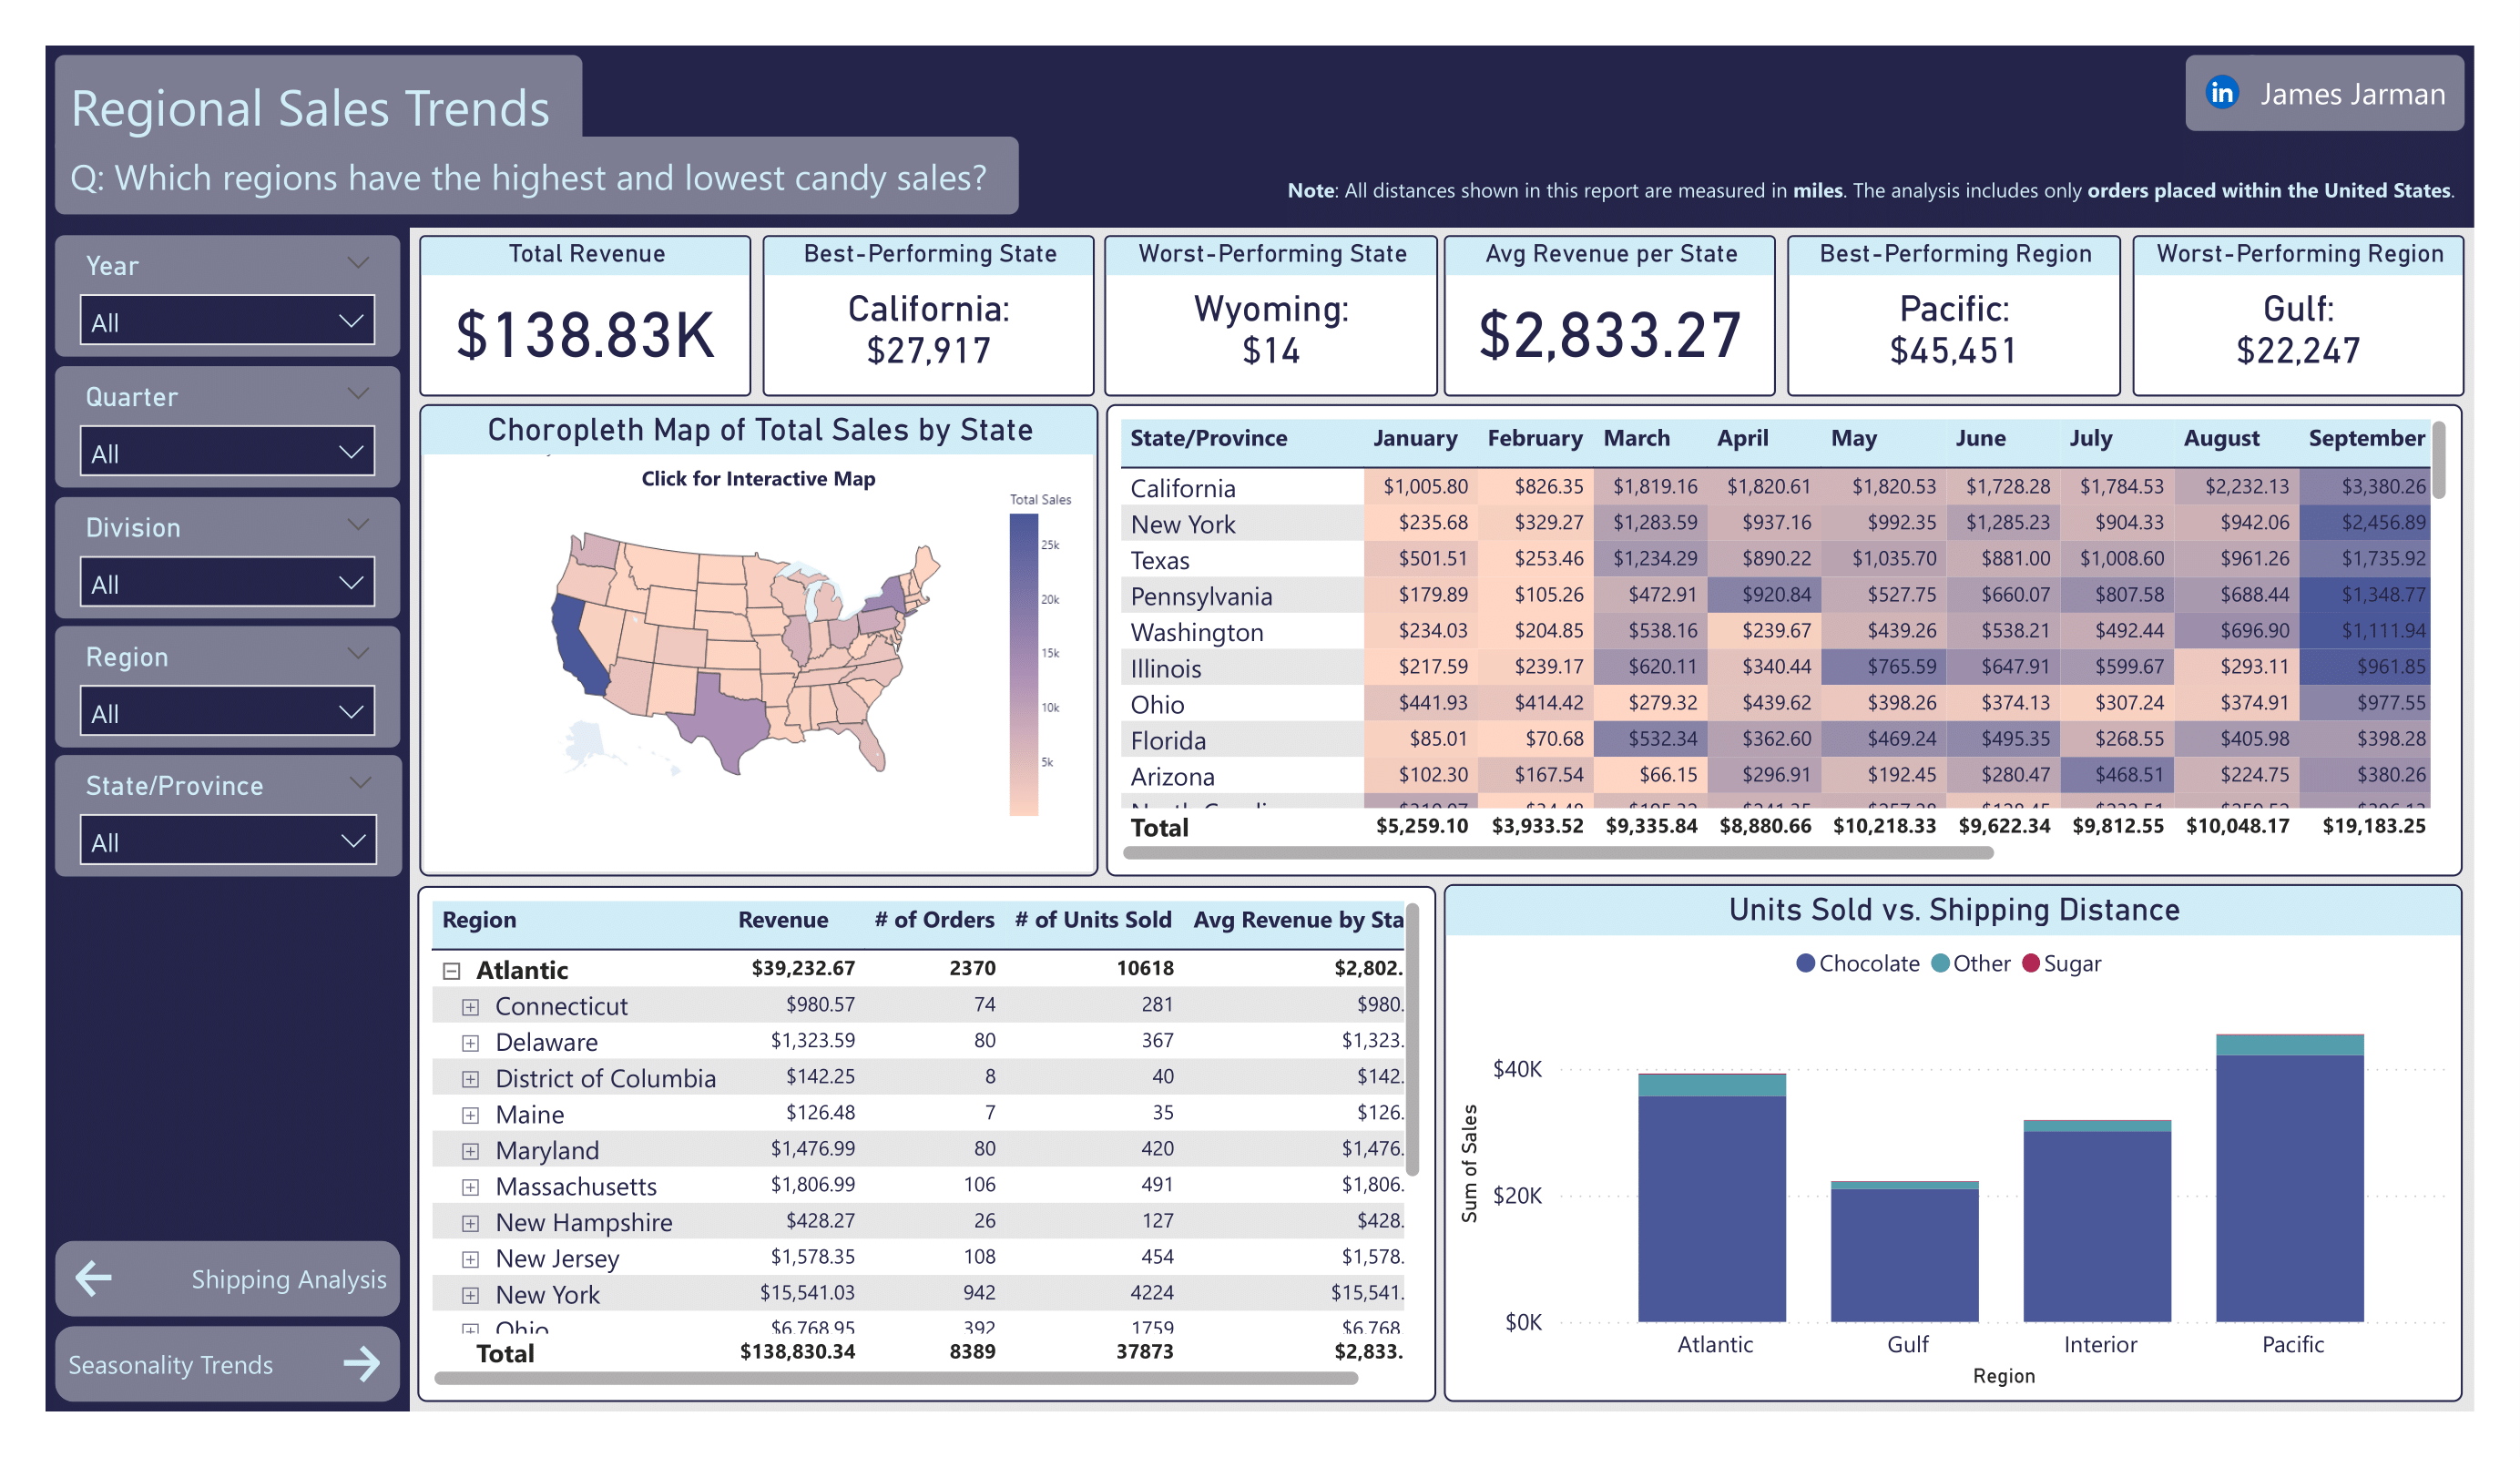

What the dashboard file says about the page in this screenshot:
{"tool":"powerbi","page":{"name":"3. Regional Sales Trends","canvas":[1280,720],"ordinal":3},"visuals":[{"type":"scatterChart","title":"Units Sold vs. Shipping Distance","box":[557.9,188.9,354.8,219.1],"z":0},{"type":"lineChart","title":"Avg Shipping Distance Over Time","box":[196,188.9,357.5,219.1],"z":1000},{"type":"card","title":"Longest Avg Distance","box":[918.5,100.2,175.2,85.1],"z":2000},{"type":"card","title":"Shortest Avg Distance","box":[736.8,100.2,175.6,85.1],"z":3000},{"type":"card","title":"Avg Distance per Factory","box":[558.3,100.2,175.6,85.1],"z":4000},{"type":"card","title":"Total US Shipments","box":[378.2,100.2,175.2,85.1],"z":5000},{"type":"card","title":"Avg Shipping Distance","box":[197,100,175.5,84.9],"z":6000},{"type":"shape","title":"Left-side Shape","box":[0,95.6,192,624.4],"z":7000},{"type":"actionButton","title":"Next Page Button","box":[5,675,181.9,40],"z":8000},{"type":"actionButton","title":"Previous Page Button","box":[5,630,181.9,40],"z":9000},{"type":"slicer","title":"Quarter Slicer","fields":{"Values":["sales.Order Date.Variation.Date Hierarchy.Quarter"]},"box":[5.2,238,182,63.6],"z":10000},{"type":"slicer","title":"Year Slicer","fields":{"Values":["sales.Order Date.Variation.Date Hierarchy.Year"]},"box":[5.2,169,182,64],"z":11000},{"type":"slicer","title":"Division Slicer","fields":{"Values":["sales.Division"]},"box":[5,100,182,64],"z":12000},{"type":"shape","title":"Header Shape","box":[0,0,1280,95.6],"z":13000},{"type":"actionButton","title":"LinkedIn Button","box":[1127.6,5,40,40],"z":14000},{"type":"textbox","title":"Question","box":[4.9,47.9,508,41.2],"z":15000},{"type":"textbox","title":"Page Title","box":[5.2,5.2,278,52.4],"z":16000},{"type":"actionButton","title":"JJ Button","box":[1157.9,5,116.9,40],"z":17000},{"type":"slicer","title":"Quarter Slicer","fields":{"Values":["shipping_analysis.Factory"]},"box":[5.3,306,182.1,63.6],"z":18000},{"type":"textbox","box":[1096.6,100,178.2,84.9],"z":19000},{"type":"pivotTable","box":[737.1,414.2,537.5,300.7],"z":20000},{"type":"slicer","title":"Quarter Slicer","fields":{"Values":["shipping_analysis.State_Province"]},"box":[5.3,374,182.7,63.9],"z":21000},{"type":"clusteredColumnChart","title":"Order Frequency by Shipping Distance","box":[196.9,414.2,536.7,300.7],"z":22000},{"type":"actionButton","title":"Link to Interactive Map","box":[918.1,188.9,356.6,219.1],"z":23000}]}

Visuals, with their boxes on the page's 1280x720 design canvas (x1, y1, x2, y2). These are canvas units, not pixel positions in the 2520x1457 screenshot, which may show the page scaled, cropped or inside an application window:
"Units Sold vs. Shipping Distance" scatterChart: left=558, top=189, right=913, bottom=408
"Avg Shipping Distance Over Time" lineChart: left=196, top=189, right=554, bottom=408
"Longest Avg Distance" card: left=918, top=100, right=1094, bottom=185
"Shortest Avg Distance" card: left=737, top=100, right=912, bottom=185
"Avg Distance per Factory" card: left=558, top=100, right=734, bottom=185
"Total US Shipments" card: left=378, top=100, right=553, bottom=185
"Avg Shipping Distance" card: left=197, top=100, right=372, bottom=185
"Left-side Shape" shape: left=0, top=96, right=192, bottom=720
"Next Page Button" actionButton: left=5, top=675, right=187, bottom=715
"Previous Page Button" actionButton: left=5, top=630, right=187, bottom=670
"Quarter Slicer" slicer: left=5, top=238, right=187, bottom=302
"Year Slicer" slicer: left=5, top=169, right=187, bottom=233
"Division Slicer" slicer: left=5, top=100, right=187, bottom=164
"Header Shape" shape: left=0, top=0, right=1280, bottom=96
"LinkedIn Button" actionButton: left=1128, top=5, right=1168, bottom=45
"Question" textbox: left=5, top=48, right=513, bottom=89
"Page Title" textbox: left=5, top=5, right=283, bottom=58
"JJ Button" actionButton: left=1158, top=5, right=1275, bottom=45
"Quarter Slicer" slicer: left=5, top=306, right=187, bottom=370
textbox: left=1097, top=100, right=1275, bottom=185
pivotTable: left=737, top=414, right=1275, bottom=715
"Quarter Slicer" slicer: left=5, top=374, right=188, bottom=438
"Order Frequency by Shipping Distance" clusteredColumnChart: left=197, top=414, right=734, bottom=715
"Link to Interactive Map" actionButton: left=918, top=189, right=1275, bottom=408
